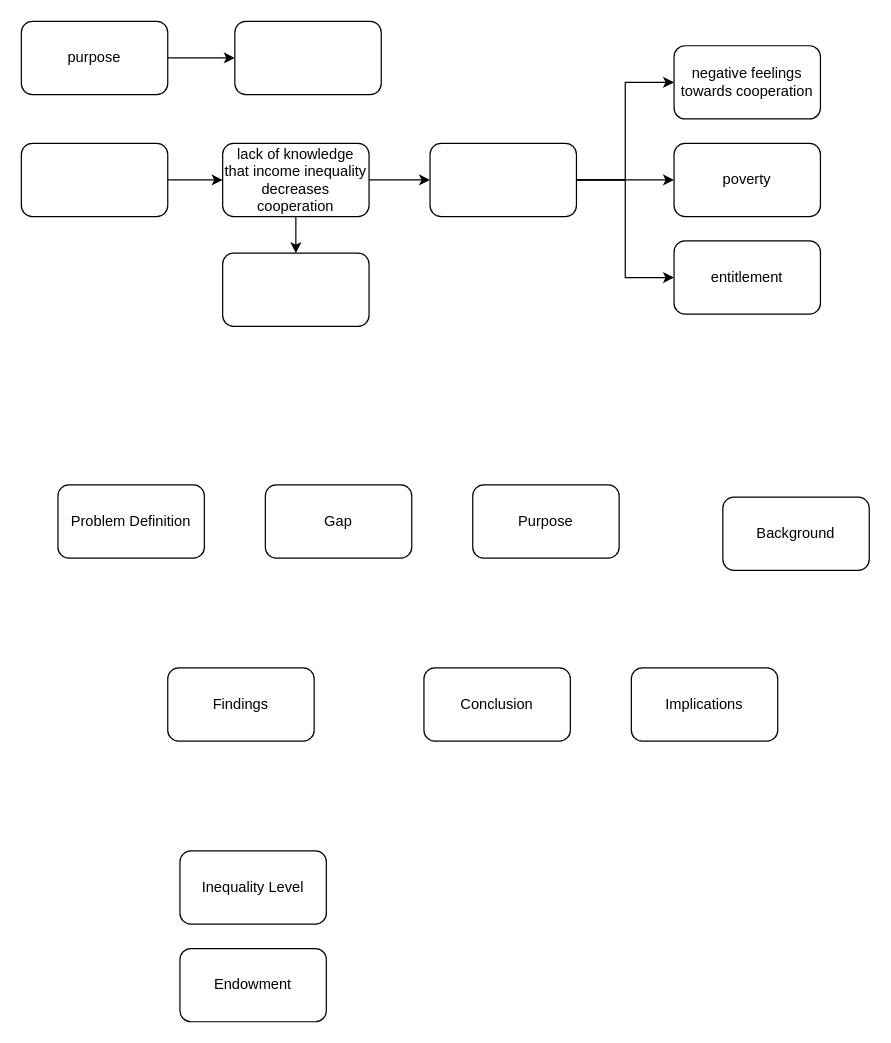
Some shapes in this 891 by 1043 pixel diagram are drawn without their labels. The centre of each missing label's shape, as x and y in pixels:
"does cooperation under income inequality have a local maximum?" goes at point (295, 289).
"generate knowledge to combat harm caused by ignorance" goes at point (307, 57).
"harm" goes at point (502, 179).
"ignorance" goes at point (94, 179).
